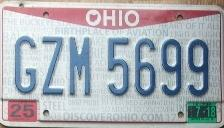5: (106, 35, 131, 97)
6: (134, 35, 158, 97)
9: (186, 37, 212, 97), (161, 37, 184, 96)
G: (13, 34, 39, 94)
M: (67, 34, 95, 98)
Z: (41, 34, 67, 98)
